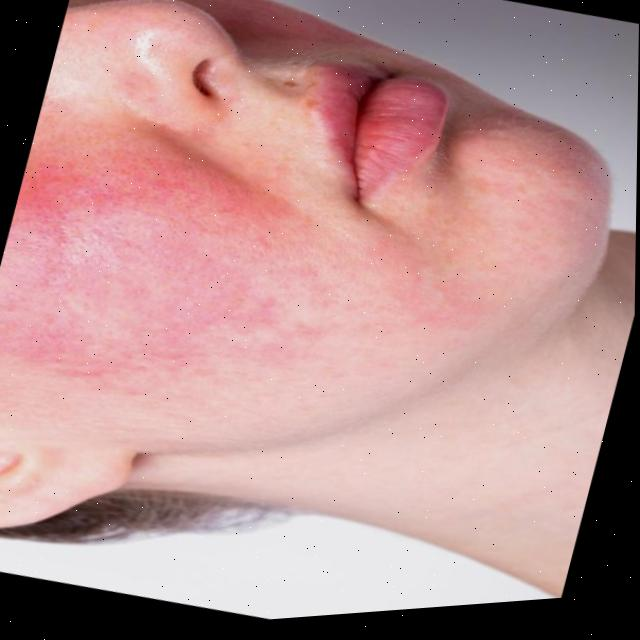Rosacea: (0, 78, 505, 478)
